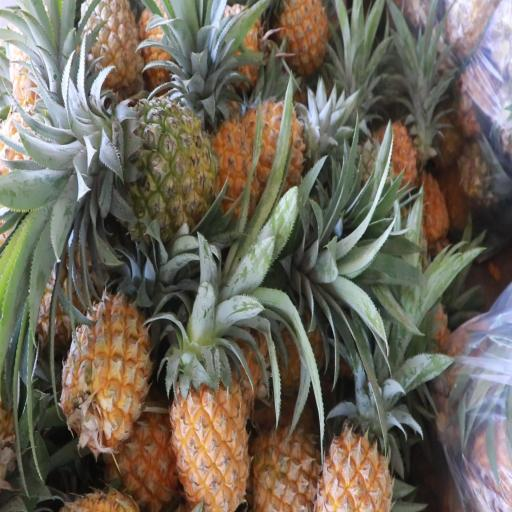Pineapple - v8 v1: (169, 328, 251, 512), (62, 288, 147, 462), (320, 357, 402, 512), (232, 102, 340, 191), (83, 0, 150, 104), (275, 0, 336, 85)
